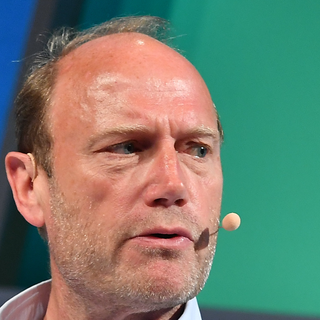eye: (99, 138, 150, 162), (177, 138, 215, 163)
